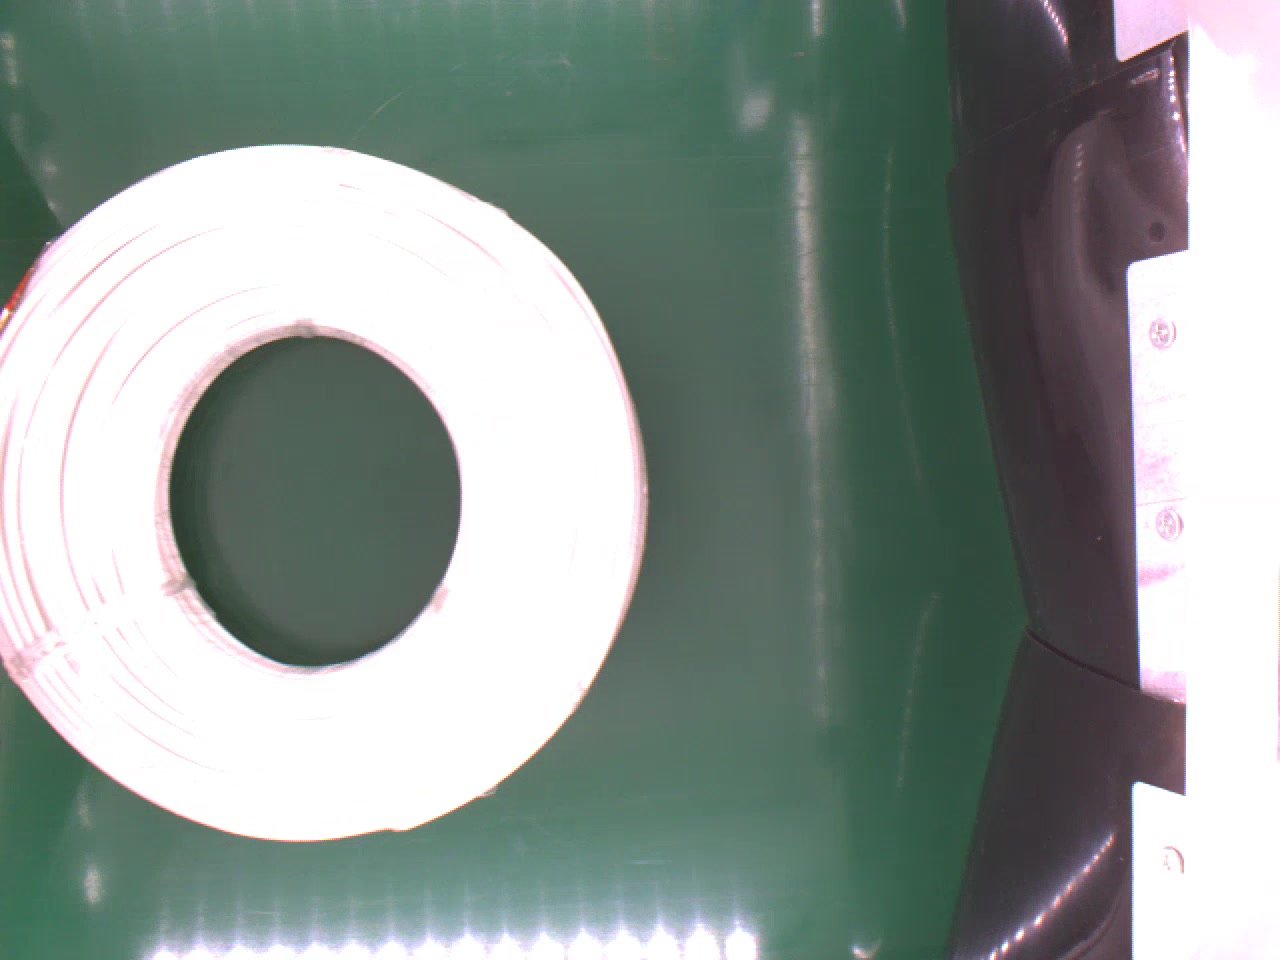white: (0, 137, 653, 844)
